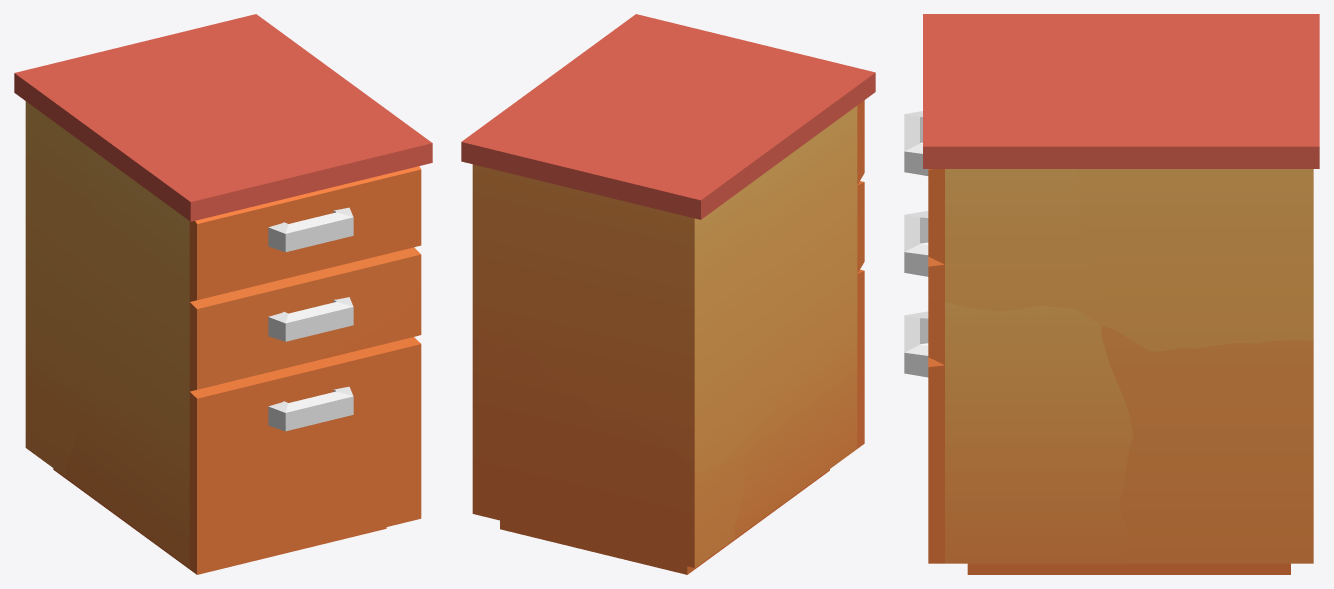
File: cabinet1 break.fbx
The picture shows the model from 3 angles, left to right: view 1: azimuth 30°, elevation 25°; view 2: azimuth 150°, elevation 25°; view 3: azimuth 270°, elevation 25°; orthographic projection. The views are drawn at different scales.
Visible parts, largest first — view 1: Furniture_01_FRAC10, Furniture_01_FRAC7, Furniture_01_FRAC11, Furniture_01_FRAC1, Furniture_01_FRAC12, Furniture_01_FRAC6; view 2: Furniture_01_FRAC11, Furniture_01_FRAC10, Furniture_01_FRAC12, Furniture_01_FRAC7, Furniture_01_FRAC1; view 3: Furniture_01_FRAC11, Furniture_01_FRAC10, Furniture_01_FRAC7, Furniture_01_FRAC12, Furniture_01_FRAC1, Furniture_01_FRAC6.
Boxes of the visible parts, <box> form: Furniture_01_FRAC10: <box>74,94,432,451</box>; Furniture_01_FRAC7: <box>65,337,421,574</box>; Furniture_01_FRAC11: <box>14,14,364,389</box>; Furniture_01_FRAC1: <box>189,247,421,391</box>; Furniture_01_FRAC12: <box>25,351,87,494</box>; Furniture_01_FRAC6: <box>310,286,421,361</box>; Furniture_01_FRAC11: <box>461,63,763,472</box>; Furniture_01_FRAC10: <box>569,14,875,436</box>; Furniture_01_FRAC12: <box>472,319,746,574</box>; Furniture_01_FRAC7: <box>721,269,864,549</box>; Furniture_01_FRAC1: <box>857,181,864,273</box>; Furniture_01_FRAC11: <box>1071,14,1319,351</box>; Furniture_01_FRAC10: <box>904,14,1180,325</box>; Furniture_01_FRAC7: <box>904,302,1133,574</box>; Furniture_01_FRAC12: <box>1101,326,1313,574</box>; Furniture_01_FRAC1: <box>904,211,944,301</box>; Furniture_01_FRAC6: <box>928,300,944,364</box>.
Size of the model in its own units: 63.08 by 98.13 by 83.4.
1 material, 1 textured.
